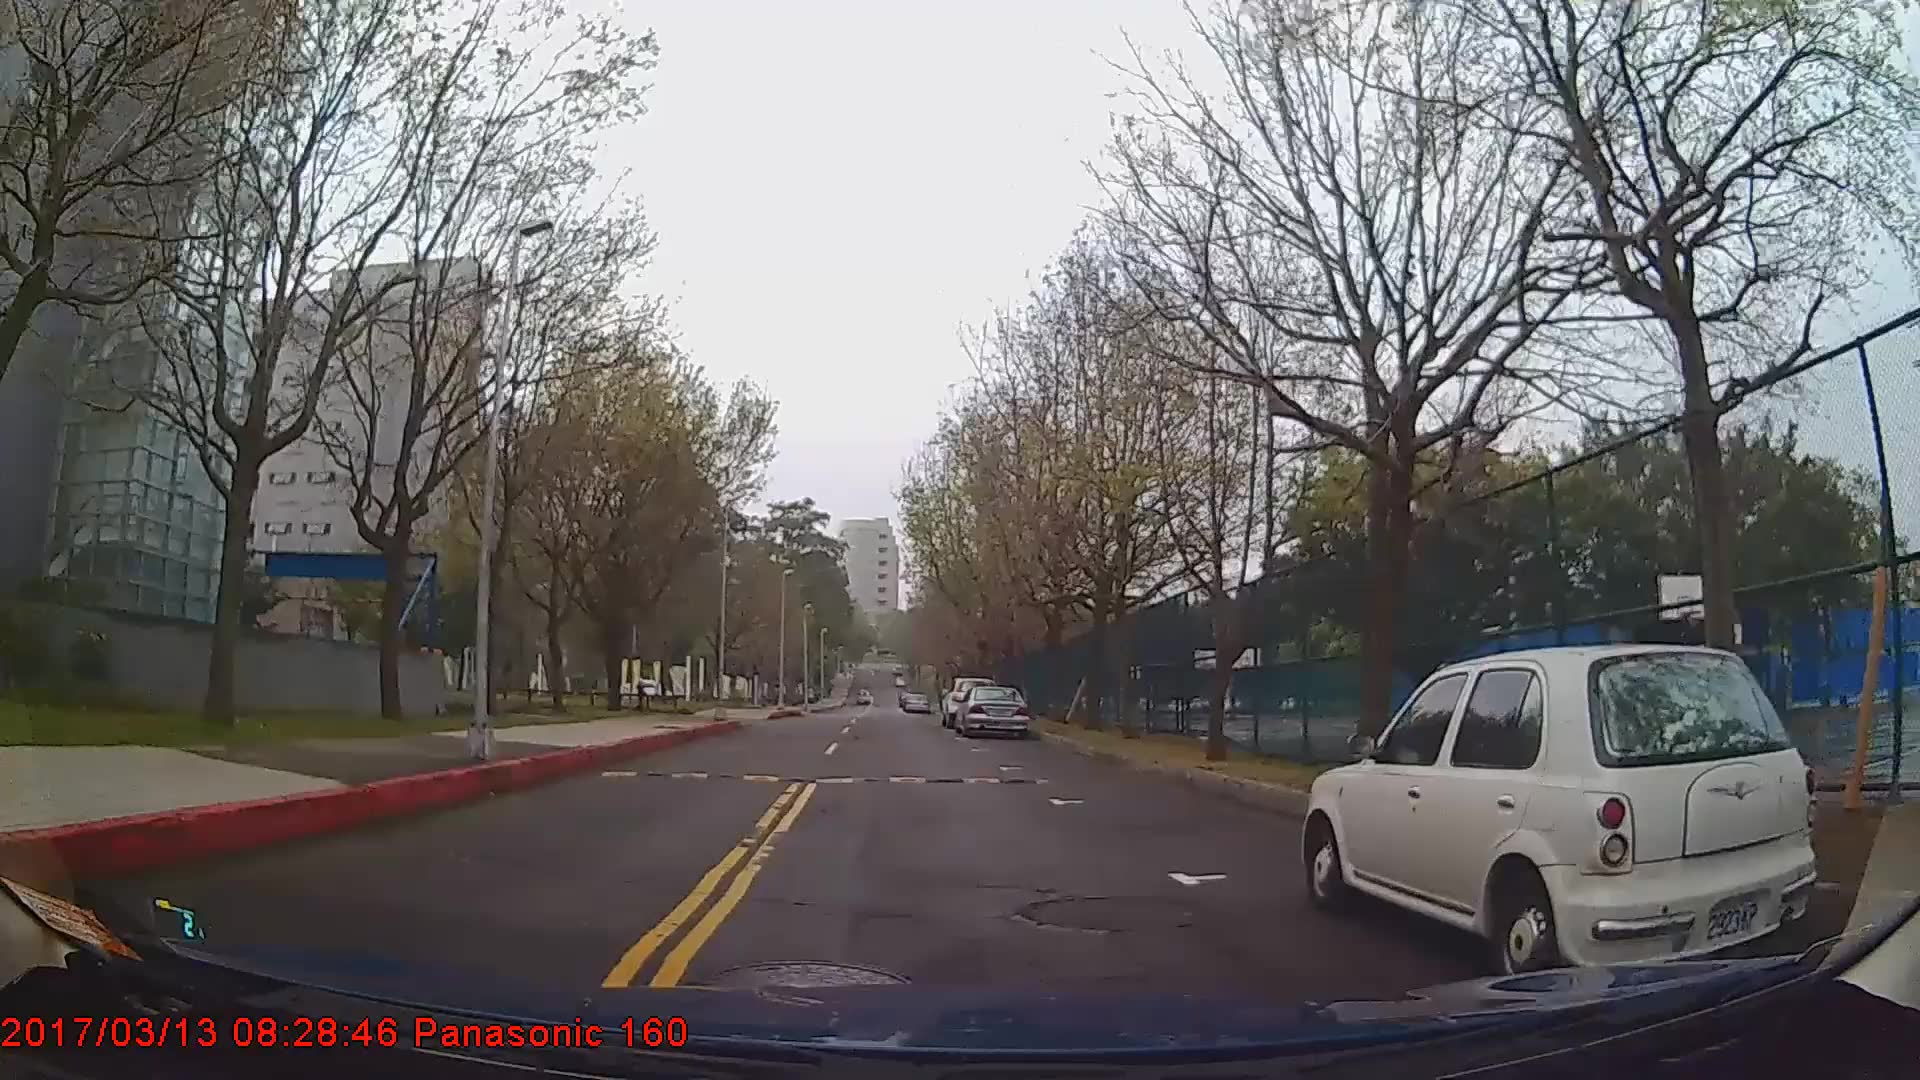vehicle: (1305, 642, 1824, 978), (953, 680, 1031, 735), (901, 691, 928, 715)
